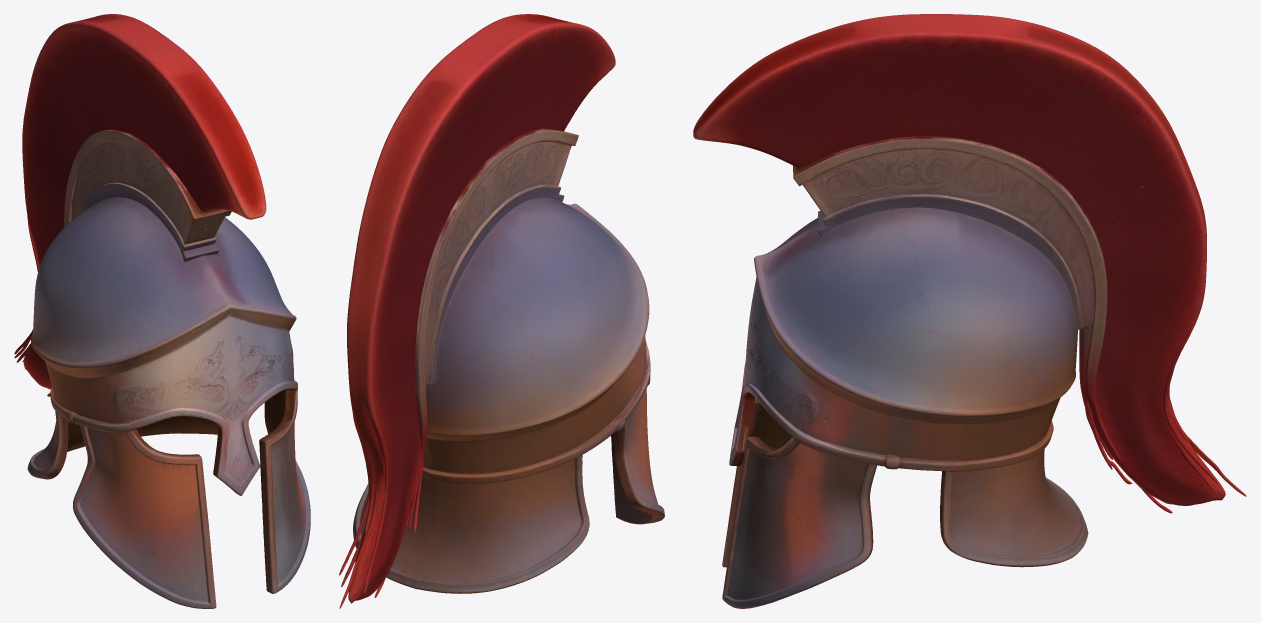
File: playing-model.glb
3 views of the same model, side by side, from view 1: azimuth 30°, elevation 25°; view 2: azimuth 150°, elevation 25°; view 3: azimuth 270°, elevation 25° (orthographic). The views are drawn at different scales.
Parts seen in each view (by area): view 1: texture_pbr_v128_0; view 2: texture_pbr_v128_0; view 3: texture_pbr_v128_0.
Boxes of the visible parts, x1=… form: texture_pbr_v128_0: x1=14, y1=14, x2=310, y2=608; texture_pbr_v128_0: x1=339, y1=14, x2=664, y2=608; texture_pbr_v128_0: x1=693, y1=14, x2=1246, y2=608.
Size of the model in its own units: 0.2578 by 0.5497 by 0.4927.
1 material, 1 textured.
